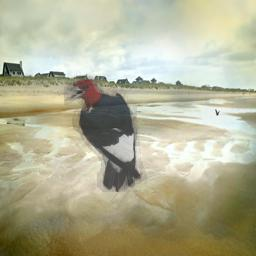Woodpecker: (64, 74, 147, 192)
